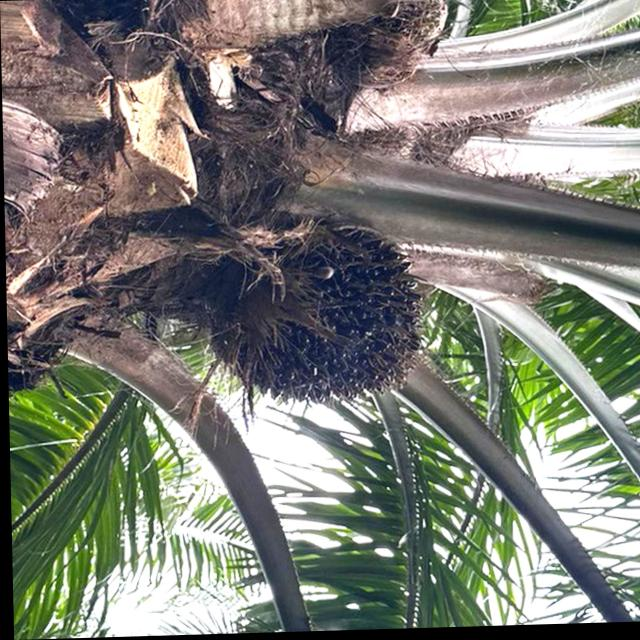unripe: (197, 201, 438, 425)
